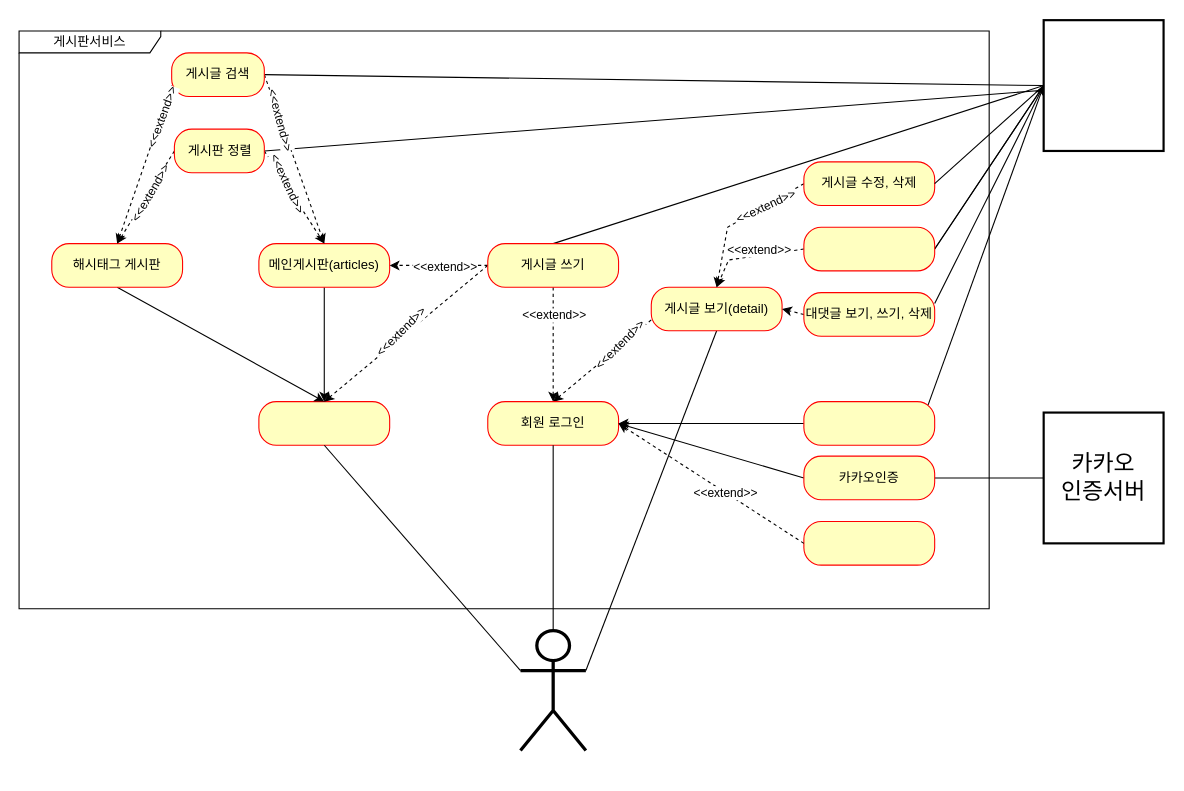
Some shapes in this 1184 by 791 pixel diagram are drawn without their labels. Here are the shapes that lost their labels. From the top down, the box of each, then its label:
(1042, 19, 1164, 152): DB
(803, 226, 935, 271): 댓글 보기, 쓰기, 삭제
(258, 401, 390, 445): 게시판 보기
(803, 401, 935, 445): 인증
(803, 520, 935, 565): 로그인 실패
(518, 628, 587, 752): user
